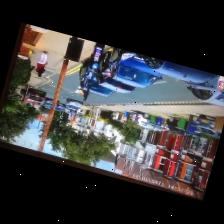person: (36, 50, 47, 76), (123, 110, 128, 121)
